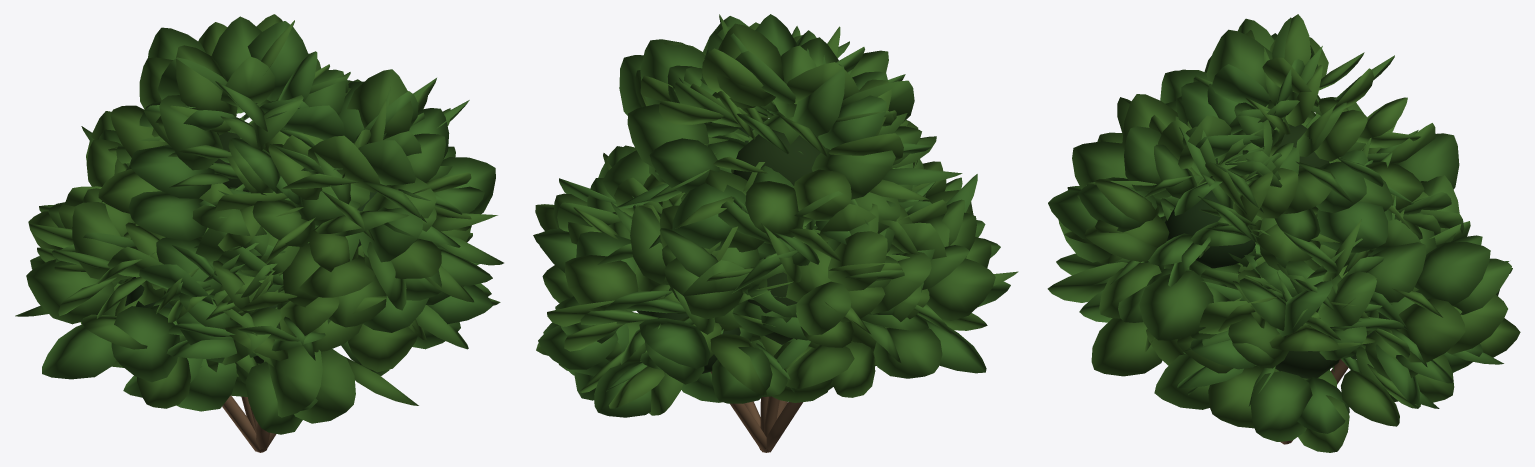
File: potfill_bush.glb
The picture shows the model from 3 angles, left to right: view 1: azimuth 30°, elevation 25°; view 2: azimuth 150°, elevation 25°; view 3: azimuth 270°, elevation 25°; orthographic projection. The views are drawn at different scales.
Visible parts, largest first — view 1: Sammel Pflanze, Sammel Holz, Sammel Blatt; view 2: Sammel Pflanze, Sammel Blatt, Sammel Holz; view 3: Sammel Pflanze, Sammel Blatt.
Boxes of the visible parts, left/top/right/bottom form: Sammel Pflanze: left=15, top=14, right=503, bottom=434; Sammel Holz: left=222, top=395, right=276, bottom=452; Sammel Blatt: left=125, top=132, right=377, bottom=363; Sammel Pflanze: left=533, top=14, right=1018, bottom=417; Sammel Blatt: left=636, top=118, right=820, bottom=373; Sammel Holz: left=711, top=371, right=803, bottom=452; Sammel Pflanze: left=1047, top=14, right=1520, bottom=452; Sammel Blatt: left=1165, top=124, right=1374, bottom=378.
Bounding box in the file's own units: 0.5509 × 0.5074 × 0.5422.
